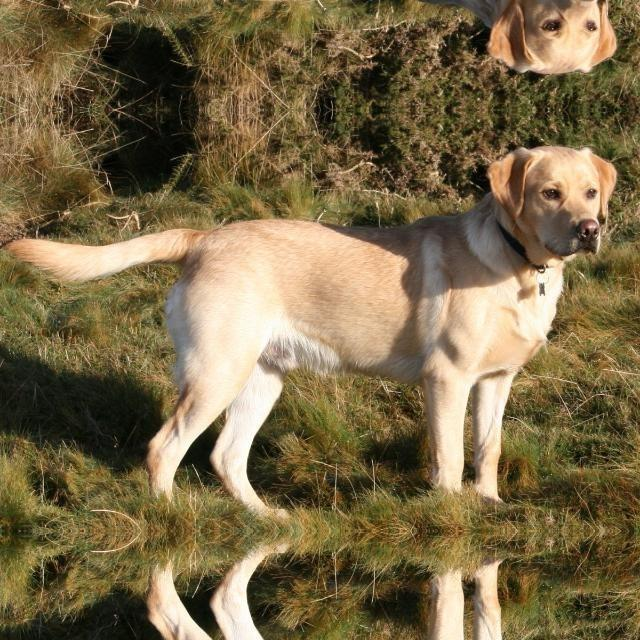dog: (470, 132, 624, 274), (470, 0, 624, 86)
